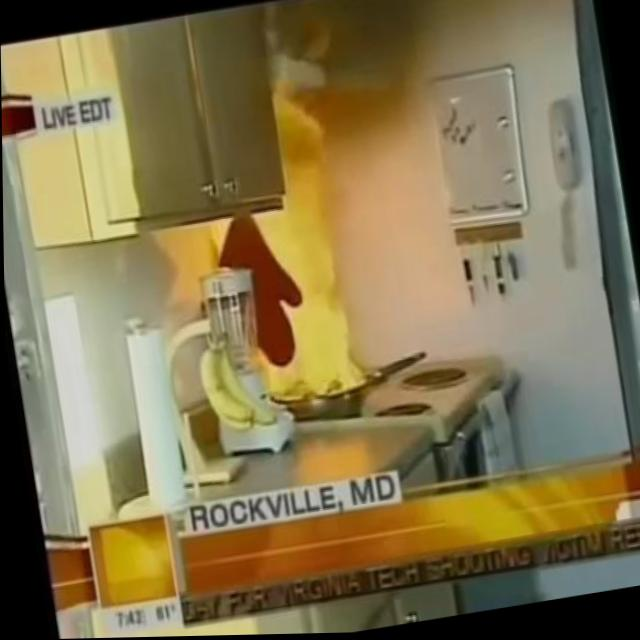fire: (195, 87, 372, 413)
